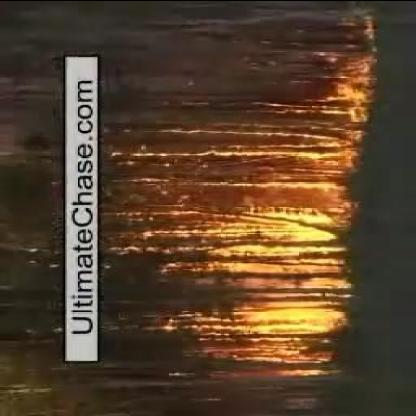foggia-v2-map80-epoch100 - v1 4323: (240, 300, 338, 334)
